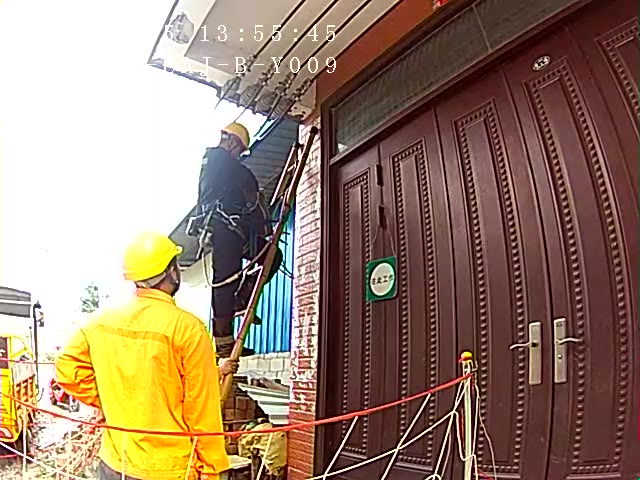halt: (125, 232, 186, 297), (220, 123, 254, 159)
inear: (167, 262, 182, 290)
